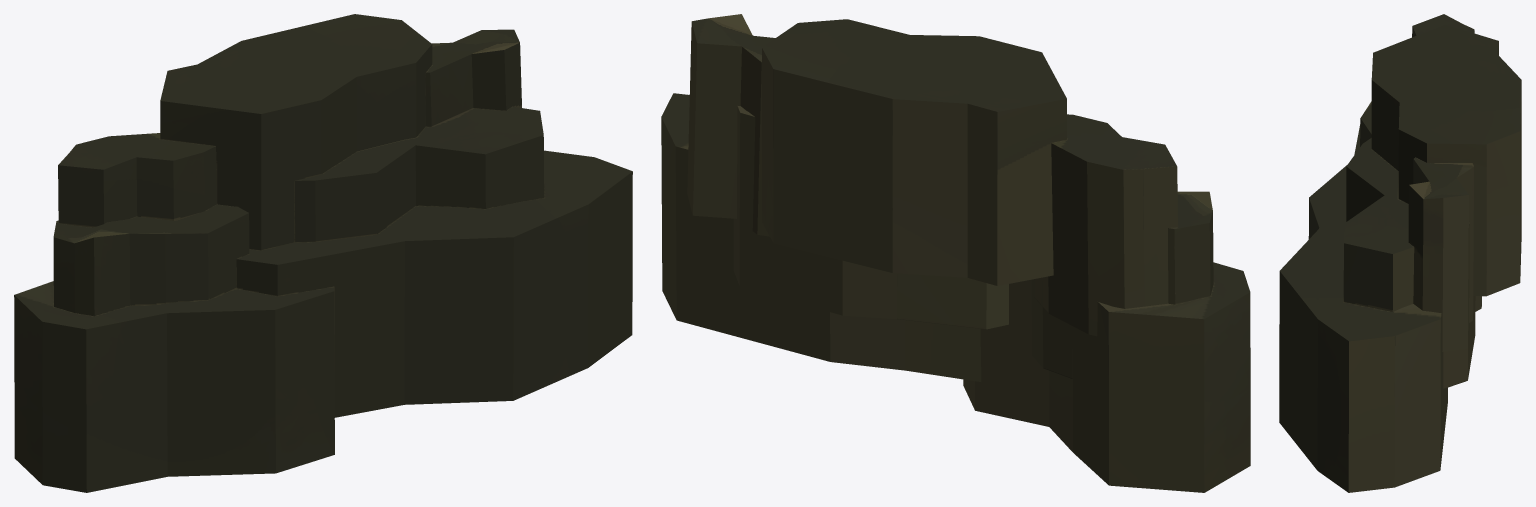
File: rock test.fbx
3 views of the same model, side by side, from view 1: azimuth 30°, elevation 25°; view 2: azimuth 150°, elevation 25°; view 3: azimuth 270°, elevation 25° (orthographic). The views are drawn at different scales.
Visible parts, largest first — view 1: lower cliff; view 2: lower cliff; view 3: lower cliff.
Part boxes in pixels (x1,y1,x2,y2): lower cliff: [14, 14, 632, 492]; lower cliff: [661, 14, 1250, 492]; lower cliff: [1279, 14, 1521, 492].
Size of the model in its own units: 2002 by 1129 by 799.
